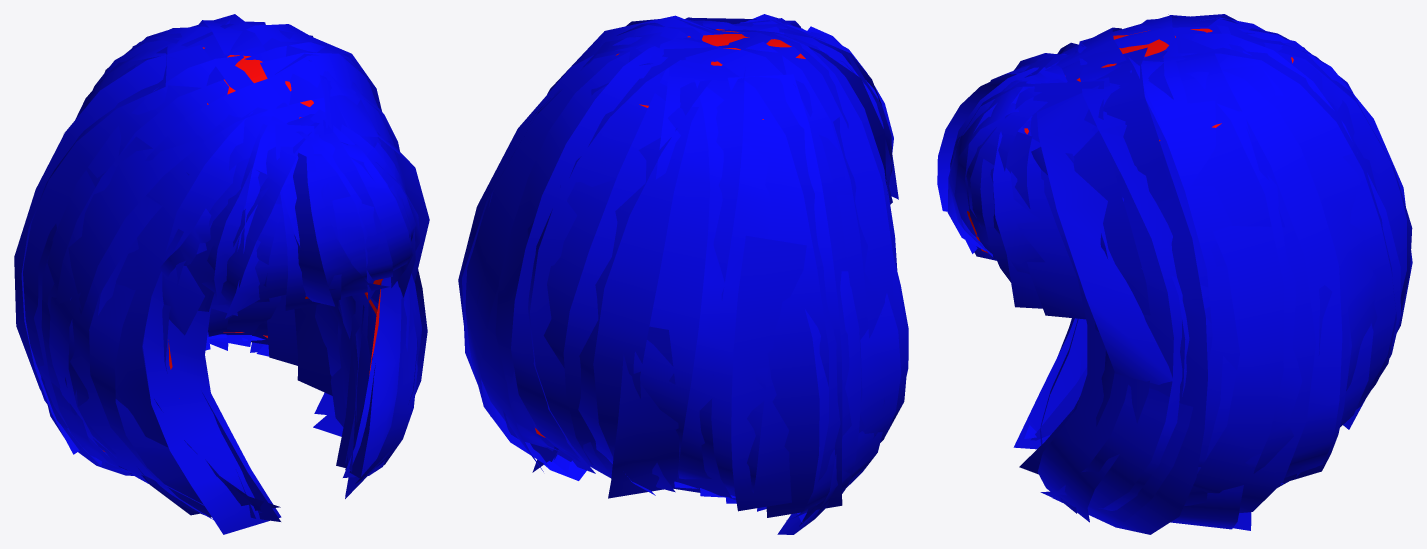
File: hair_005.obj
3 renders of one model, left to right at view 1: azimuth 30°, elevation 25°; view 2: azimuth 150°, elevation 25°; view 3: azimuth 270°, elevation 25°, orthographic. The views are drawn at different scales.
Bounding box in the file's own units: 25.77 × 28.86 × 27.58.
